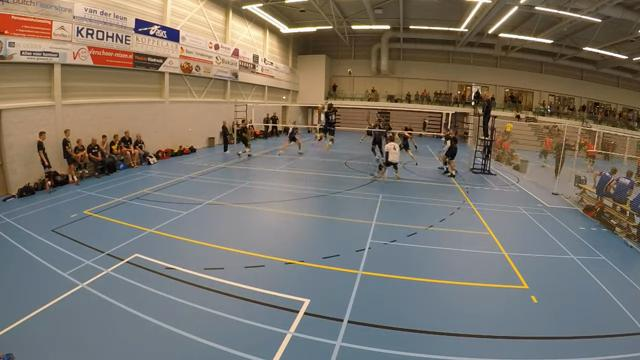attacco: (314, 97, 341, 151)
